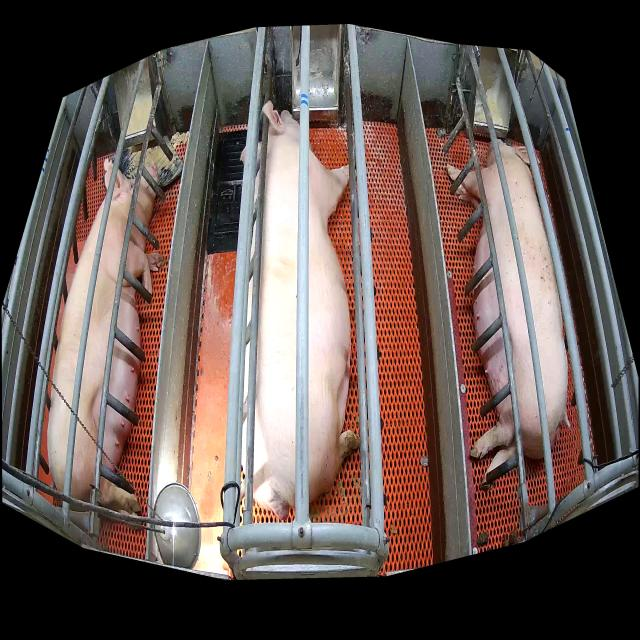pig: (242, 100, 360, 521), (47, 158, 165, 502), (447, 139, 568, 474)
